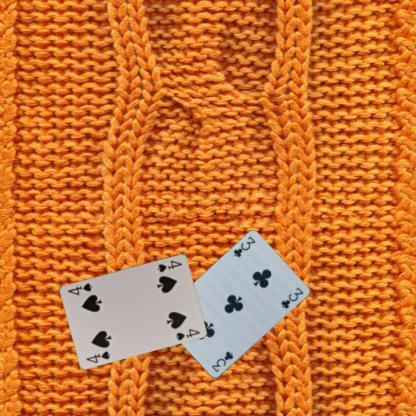3c: (230, 234, 256, 259), (209, 349, 235, 373)
4s: (84, 348, 111, 364), (155, 258, 183, 273)
